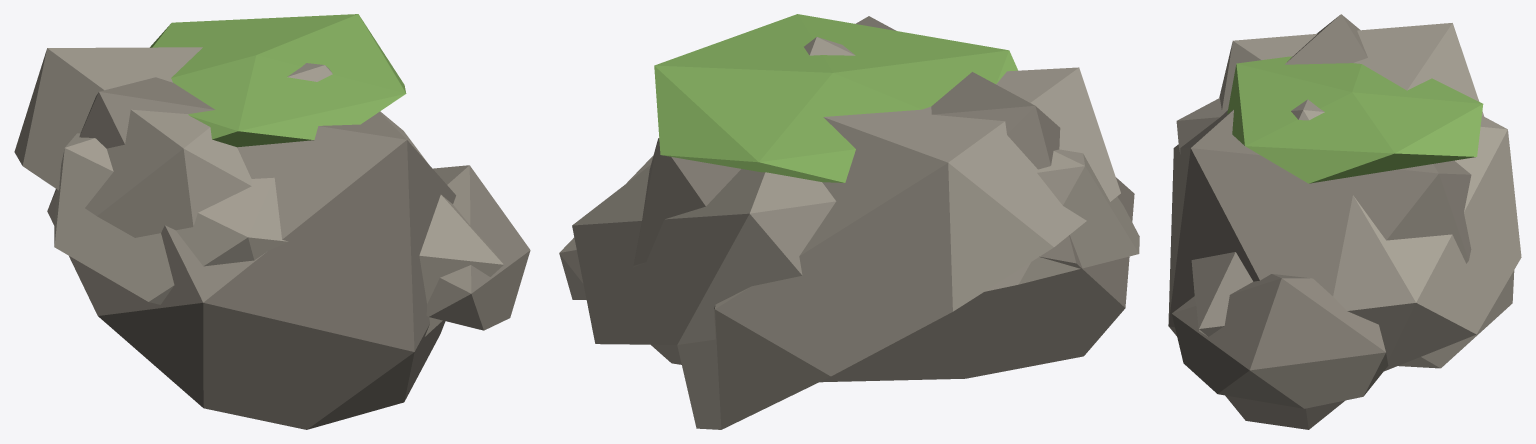
The model's file is pedras.glb.
3 views of the same model, side by side, from view 1: azimuth 30°, elevation 25°; view 2: azimuth 150°, elevation 25°; view 3: azimuth 270°, elevation 25° (orthographic). The views are drawn at different scales.
Parts seen in each view (by area): view 1: pedra-c, pedra-b, pedra-a; view 2: pedra-b, pedra-c, pedra-a; view 3: pedra-c, pedra-b, pedra-a.
Part boxes in pixels (x1,y1,x2,y2): pedra-c: [47, 14, 455, 429]; pedra-b: [14, 47, 530, 330]; pedra-a: [54, 63, 503, 336]; pedra-b: [559, 67, 1120, 429]; pedra-c: [633, 14, 1134, 382]; pedra-a: [572, 37, 1139, 344]; pedra-c: [1168, 14, 1483, 429]; pedra-b: [1172, 23, 1514, 408]; pedra-a: [1176, 98, 1521, 371].
Bounding box in the file's own units: 1.86 × 1.33 × 1.43.
